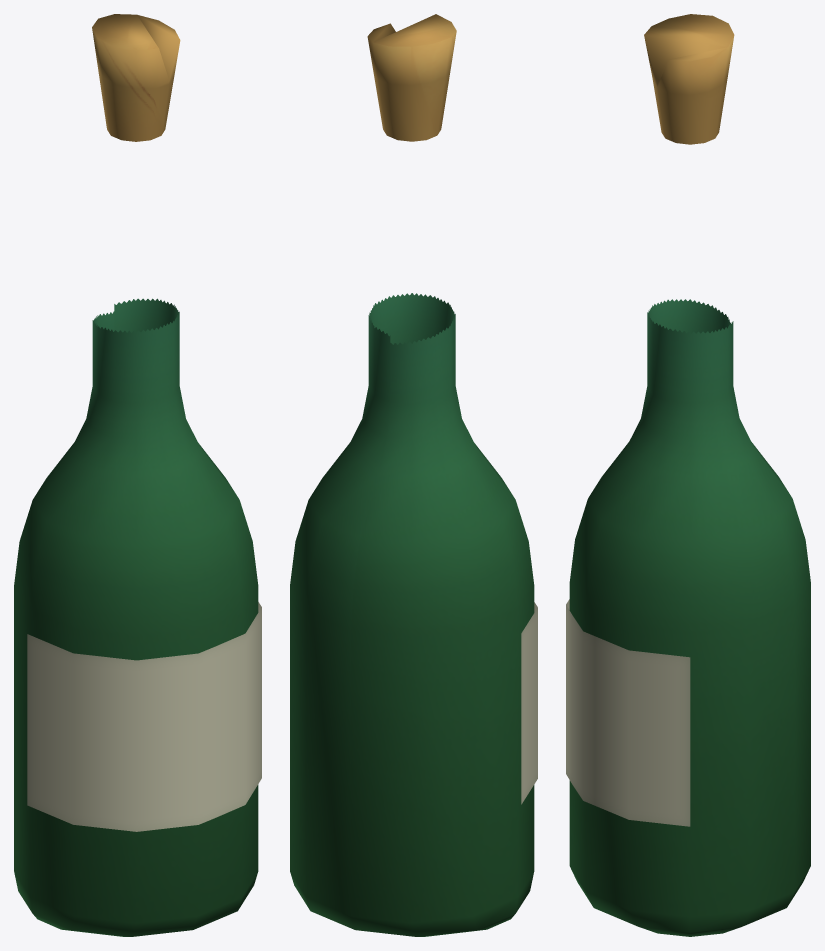
Rendered from Wine.fbx.
3 renders of one model, left to right at view 1: azimuth 30°, elevation 25°; view 2: azimuth 150°, elevation 25°; view 3: azimuth 270°, elevation 25°, orthographic.
Parts seen in each view (by area): view 1: Wine; view 2: Wine; view 3: Wine.
Boxes of the visible parts, box(x1,y1,x2,y2) form: Wine: box(14, 14, 261, 936); Wine: box(290, 14, 537, 936); Wine: box(566, 14, 810, 936).
Size of the model in its own units: 24.24 by 92.28 by 23.88.
